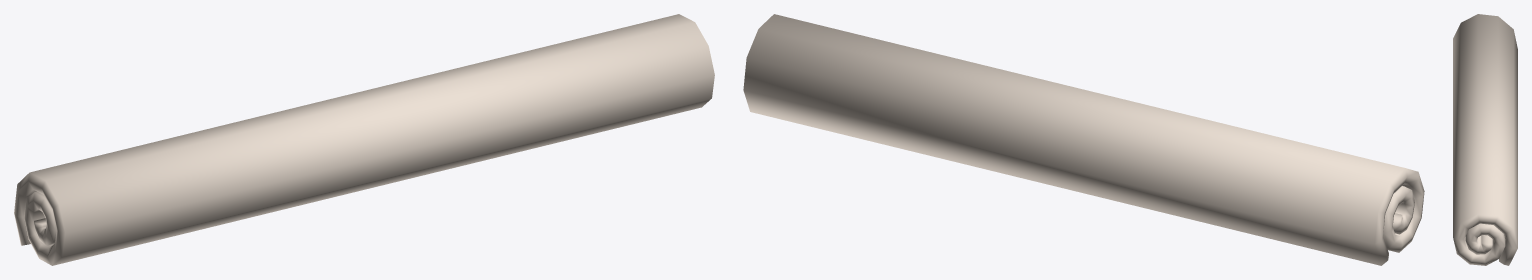
The model's file is Tapete.fbx.
3 views of the same model, side by side, from view 1: azimuth 30°, elevation 25°; view 2: azimuth 150°, elevation 25°; view 3: azimuth 270°, elevation 25° (orthographic). The views are drawn at different scales.
Visible parts, largest first — view 1: Tapete; view 2: Tapete; view 3: Tapete.
Boxes of the visible parts, x1=… form: Tapete: x1=14, y1=14, x2=714, y2=265; Tapete: x1=743, y1=14, x2=1424, y2=265; Tapete: x1=1453, y1=14, x2=1517, y2=265.
Size of the model in its own units: 150 by 18.09 by 20.32.
